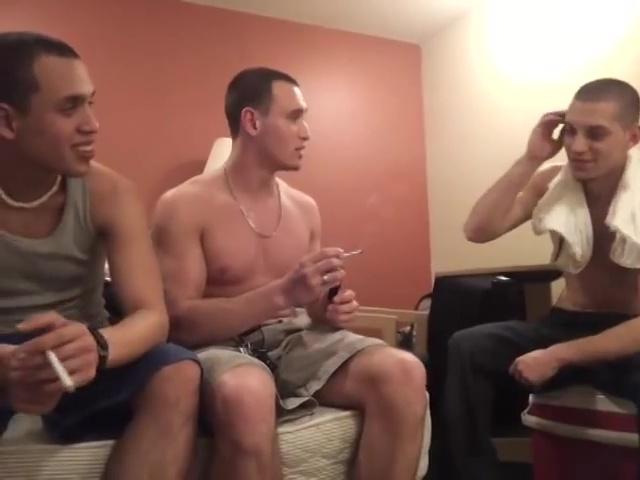cigarette: (43, 346, 78, 397), (333, 248, 365, 263)
